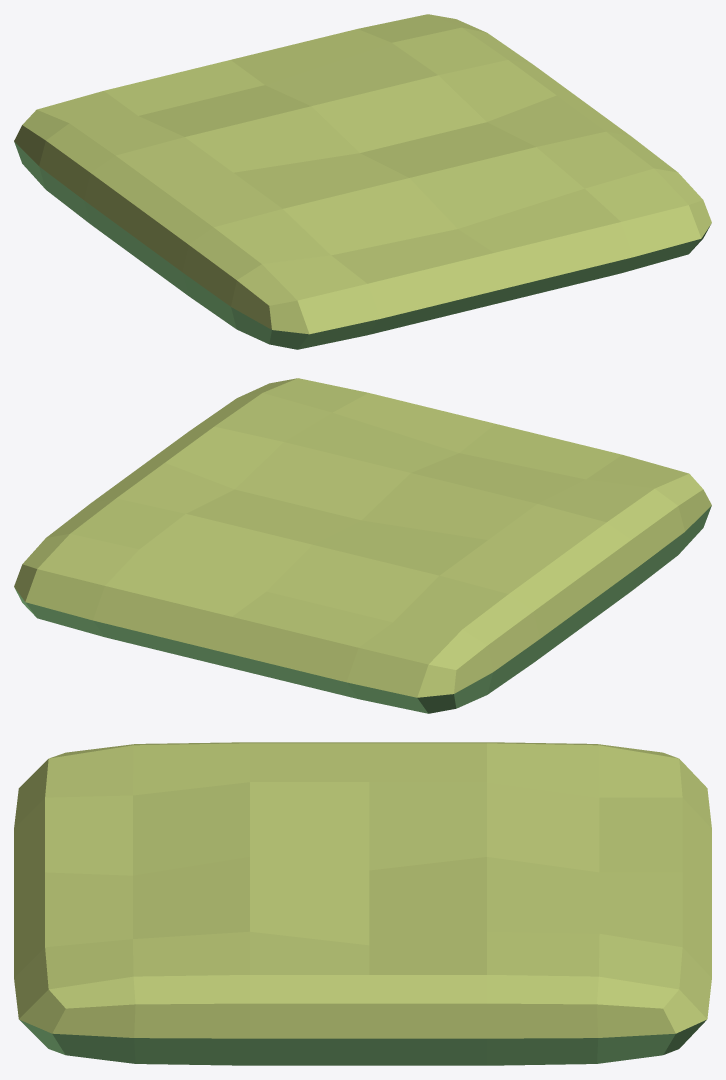
Rendered from Table Chair Cushion.fbx.
The picture shows the model from 3 angles, top to bottom: view 1: azimuth 30°, elevation 25°; view 2: azimuth 150°, elevation 25°; view 3: azimuth 270°, elevation 25°; orthographic projection. The views are drawn at different scales.
Parts seen in each view (by area): view 1: Table Chair Cushion; view 2: Table Chair Cushion; view 3: Table Chair Cushion.
Part boxes in pixels (x1,y1,x2,y2): Table Chair Cushion: (14, 14, 711, 349); Table Chair Cushion: (14, 378, 711, 713); Table Chair Cushion: (14, 742, 711, 1065).
Bounding box in the file's own units: 80.13 × 12.95 × 87.79.
